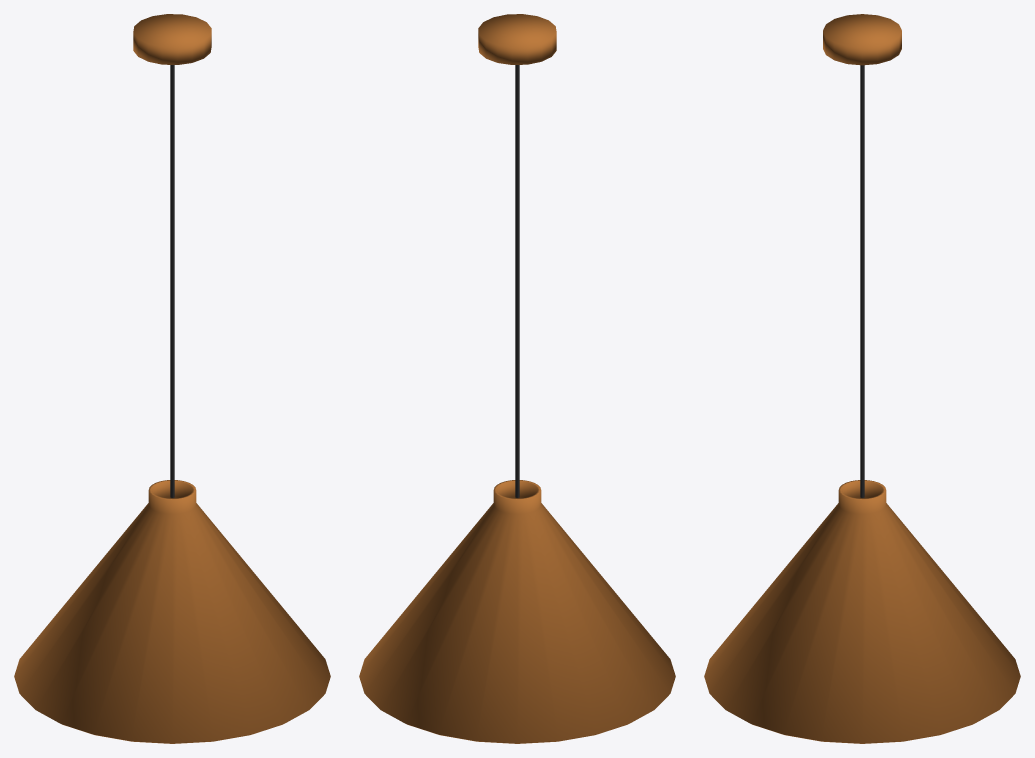
Rendered from i_pend_3.glb.
The picture shows the model from 3 angles, left to right: view 1: azimuth 30°, elevation 25°; view 2: azimuth 150°, elevation 25°; view 3: azimuth 270°, elevation 25°; orthographic projection.
Visible parts, largest first — view 1: o.001, o.003, o; view 2: o.001, o.003, o; view 3: o.001, o.003, o.
Part boxes in pixels (x1=…): o.001: x1=14, y1=480, x2=330, y2=743; o.003: x1=133, y1=14, x2=211, y2=64; o: x1=170, y1=65, x2=174, y2=497; o.001: x1=359, y1=480, x2=675, y2=743; o.003: x1=478, y1=14, x2=556, y2=64; o: x1=515, y1=65, x2=519, y2=497; o.001: x1=704, y1=480, x2=1020, y2=743; o.003: x1=823, y1=14, x2=901, y2=65; o: x1=860, y1=65, x2=864, y2=497.
Size of the model in its own units: 0.4 by 0.9023 by 0.4.
